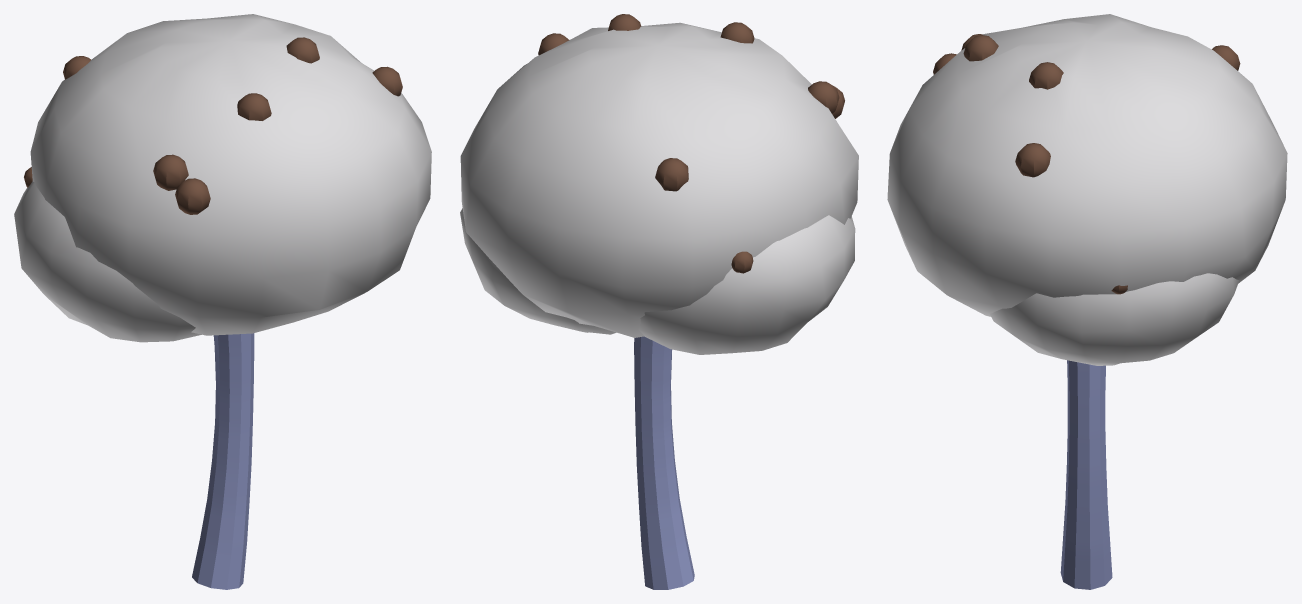
File: CreamPuffTree_B.fbx
3 views of the same model, side by side, from view 1: azimuth 30°, elevation 25°; view 2: azimuth 150°, elevation 25°; view 3: azimuth 270°, elevation 25° (orthographic).
Visible parts, largest first — view 1: CreamPuffTree_B; view 2: CreamPuffTree_B; view 3: CreamPuffTree_B.
Boxes of the visible parts, bbox=[...] form: CreamPuffTree_B: bbox=[14, 14, 431, 589]; CreamPuffTree_B: bbox=[460, 14, 858, 589]; CreamPuffTree_B: bbox=[887, 14, 1287, 589].
Bounding box in the file's own units: 8.85 × 12.65 × 8.38.
